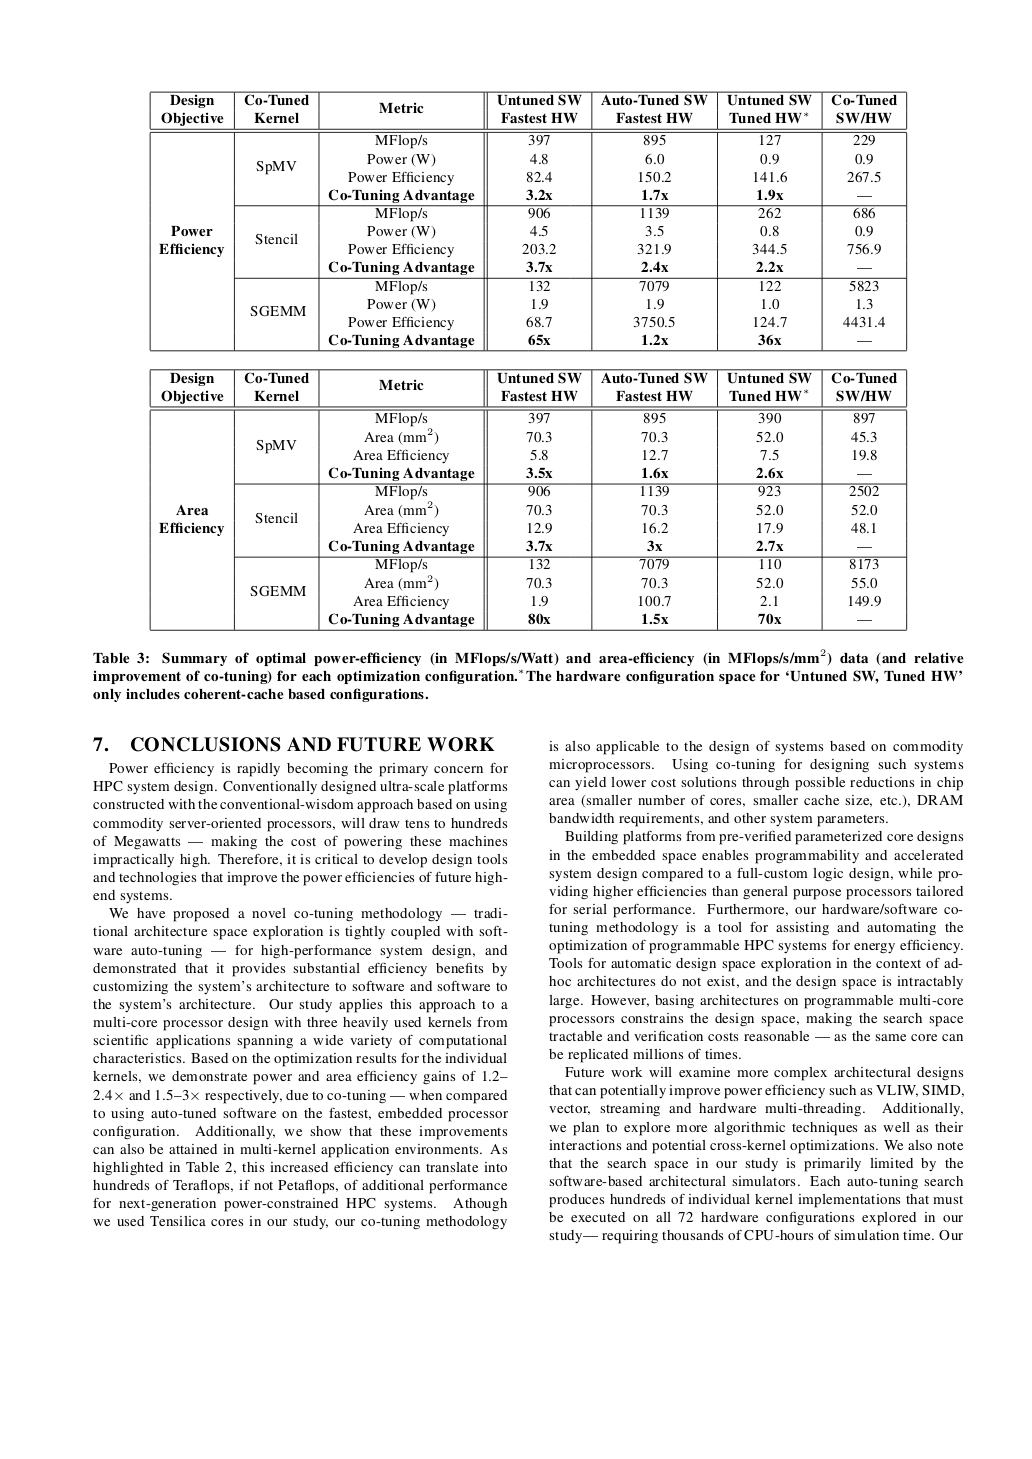Table: (149, 368, 907, 631), (149, 90, 907, 352)
